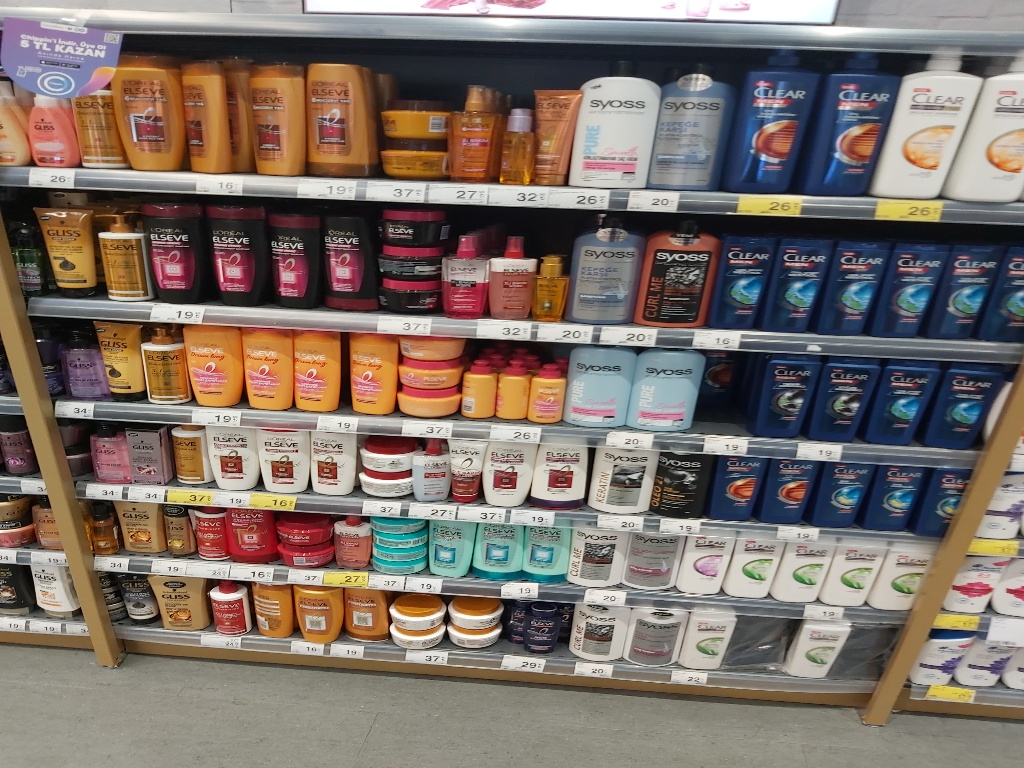urun: (892, 56, 983, 197), (731, 56, 815, 197), (810, 60, 890, 195), (575, 70, 659, 187), (648, 73, 732, 189), (301, 58, 374, 177), (111, 63, 184, 174), (645, 216, 717, 328), (571, 210, 643, 321), (243, 60, 307, 178), (937, 234, 1001, 343), (882, 232, 946, 340), (768, 225, 829, 334), (826, 225, 887, 334), (627, 347, 709, 428), (174, 60, 230, 174), (713, 220, 767, 334), (38, 196, 95, 300), (145, 197, 201, 301), (192, 198, 248, 302), (314, 202, 370, 306), (95, 200, 151, 303), (260, 204, 316, 307), (929, 362, 991, 453), (813, 353, 874, 444), (867, 360, 928, 451), (563, 346, 630, 428), (443, 83, 495, 186), (762, 352, 817, 447), (531, 82, 582, 183), (187, 324, 246, 411), (650, 448, 714, 524), (590, 442, 653, 518), (481, 234, 535, 320), (435, 232, 489, 317), (529, 439, 591, 513), (291, 329, 343, 417), (242, 325, 294, 413), (822, 540, 879, 618), (69, 83, 122, 166), (480, 431, 535, 509), (567, 526, 628, 594), (101, 324, 150, 407), (865, 463, 922, 534), (346, 333, 393, 419), (776, 535, 828, 612), (708, 453, 765, 522), (502, 607, 573, 662), (308, 425, 364, 494), (202, 422, 257, 492), (141, 326, 189, 406), (253, 425, 308, 494), (726, 538, 782, 605), (570, 602, 631, 663), (151, 572, 207, 637), (626, 608, 682, 672), (765, 456, 814, 529), (819, 454, 868, 527), (786, 620, 844, 680), (627, 532, 681, 595), (492, 108, 534, 187), (680, 608, 730, 672), (201, 580, 251, 643), (246, 581, 296, 644), (113, 499, 163, 561), (292, 584, 342, 646), (125, 419, 166, 494), (165, 419, 206, 494), (678, 534, 726, 598), (374, 142, 447, 184), (374, 101, 447, 143), (470, 525, 525, 579), (58, 332, 97, 408), (445, 436, 484, 511), (406, 443, 451, 507), (342, 588, 388, 649), (518, 527, 567, 582), (530, 251, 570, 317), (425, 522, 472, 577), (387, 381, 463, 415), (394, 361, 471, 394), (526, 366, 568, 426), (492, 360, 534, 420), (461, 361, 503, 421), (230, 506, 274, 563), (375, 275, 438, 314), (376, 243, 439, 282), (187, 506, 230, 563), (372, 205, 435, 243), (84, 430, 127, 484), (393, 332, 468, 362), (352, 470, 416, 502), (351, 442, 415, 474), (274, 541, 342, 571), (334, 516, 370, 571), (268, 515, 335, 544), (445, 600, 509, 630), (442, 622, 506, 652), (384, 602, 444, 632), (157, 511, 192, 558), (387, 623, 449, 649), (366, 535, 428, 557), (364, 532, 425, 554), (366, 515, 428, 536)
urun2: (24, 87, 69, 175)
